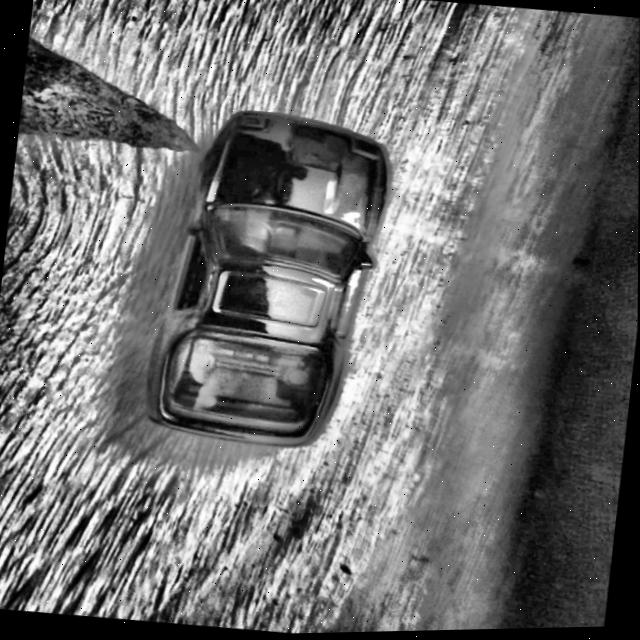car: (140, 101, 395, 459)
